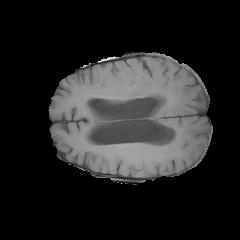glioma: (81, 132, 181, 161)
